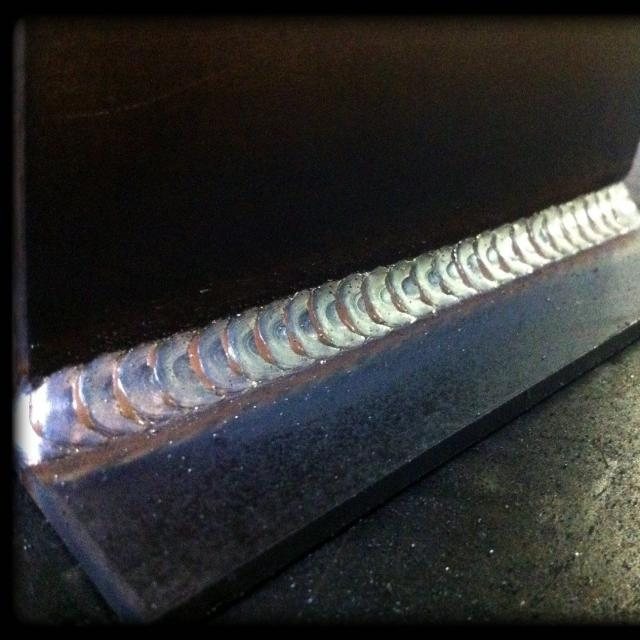Good Welding: (39, 294, 403, 467), (408, 206, 640, 320)
